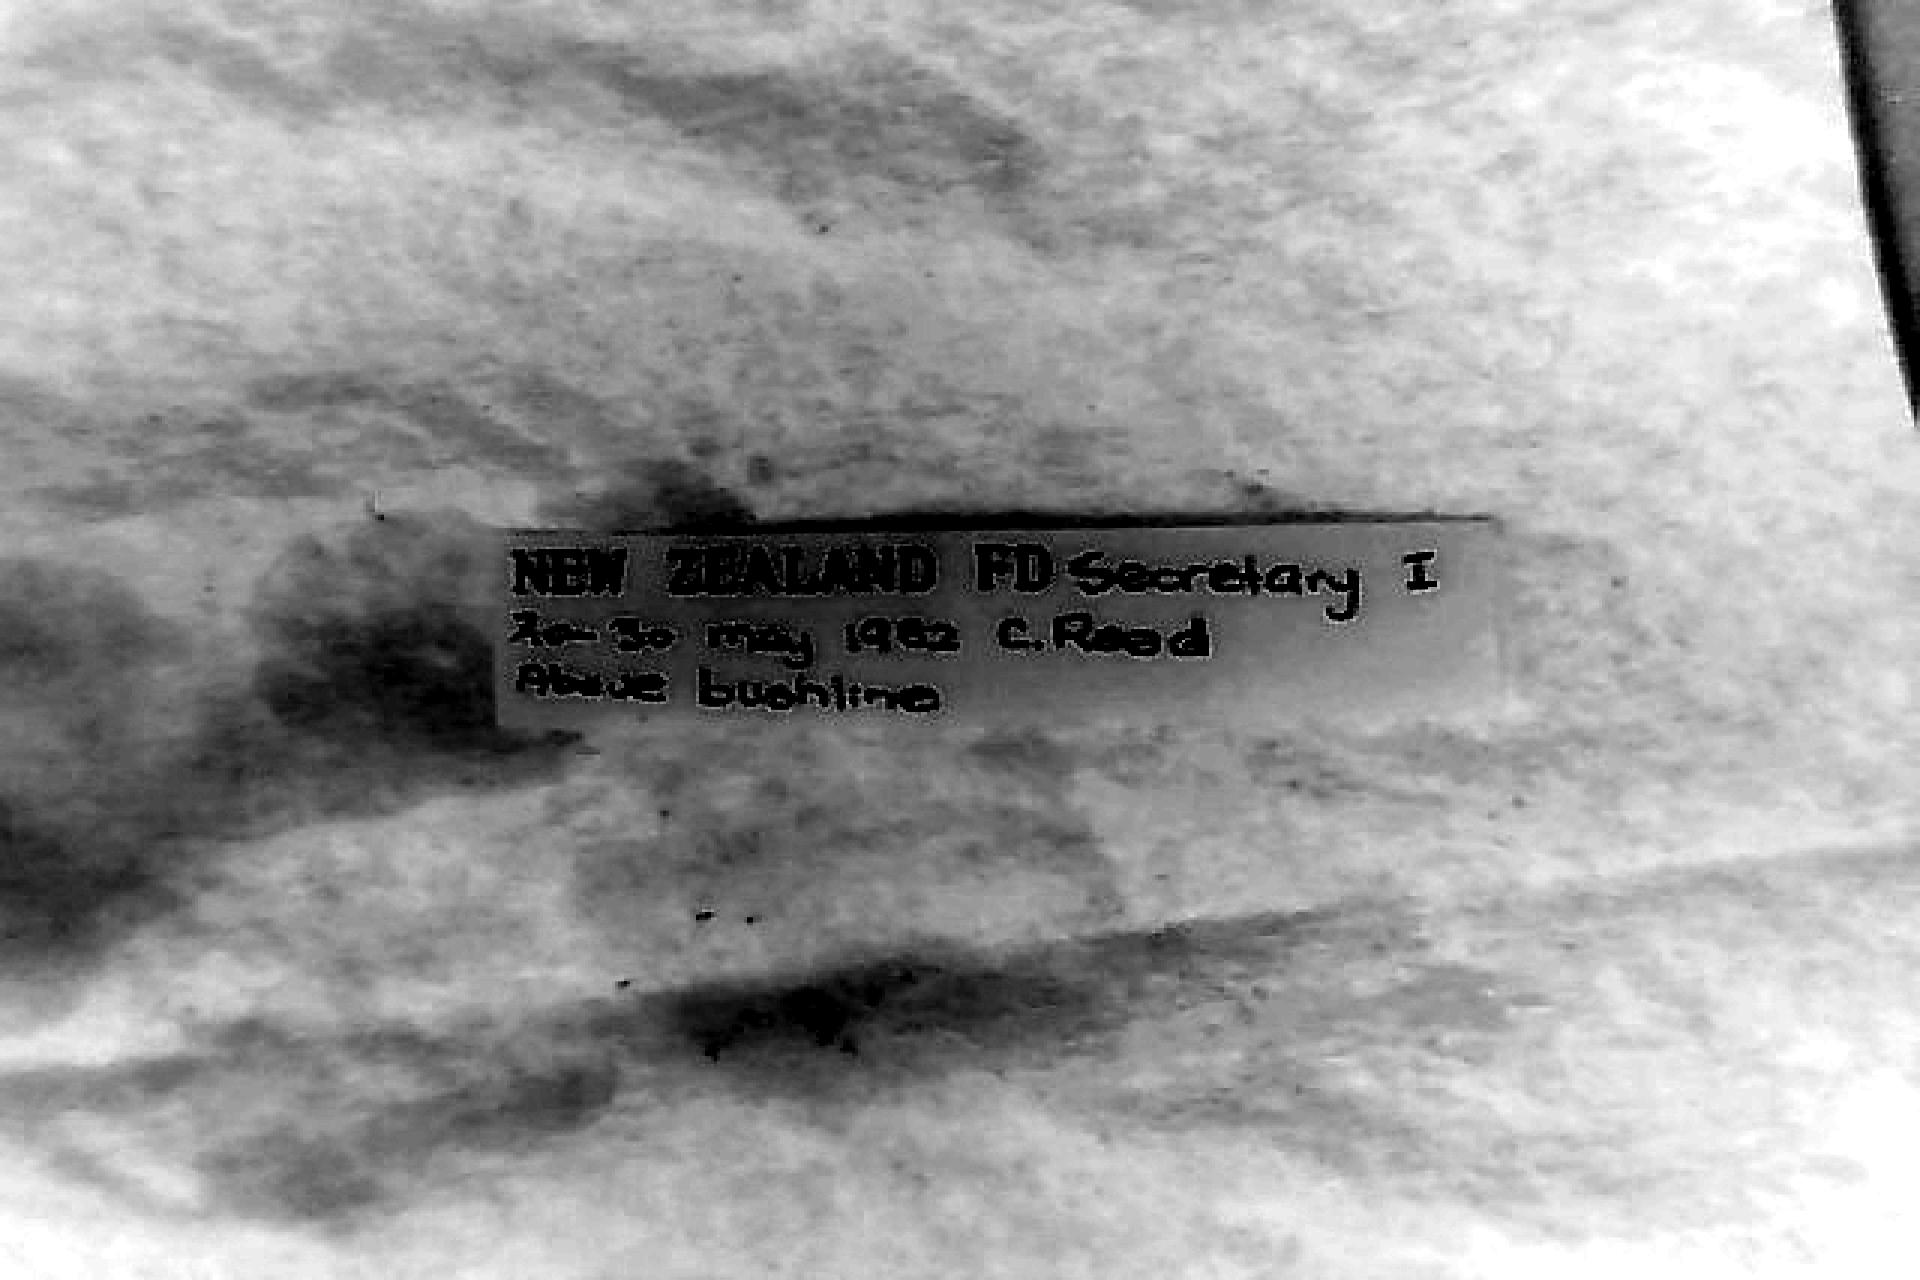mixed_label: (494, 517, 1504, 727)
